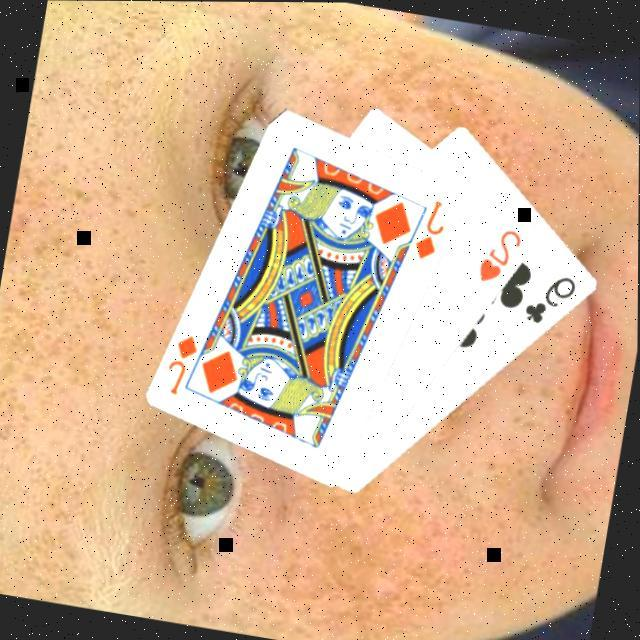2H: (472, 220, 526, 289)
9C: (519, 265, 581, 331)
JD: (408, 192, 451, 264), (159, 327, 202, 399)
